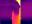Hotspot: (16, 0, 20, 5)
